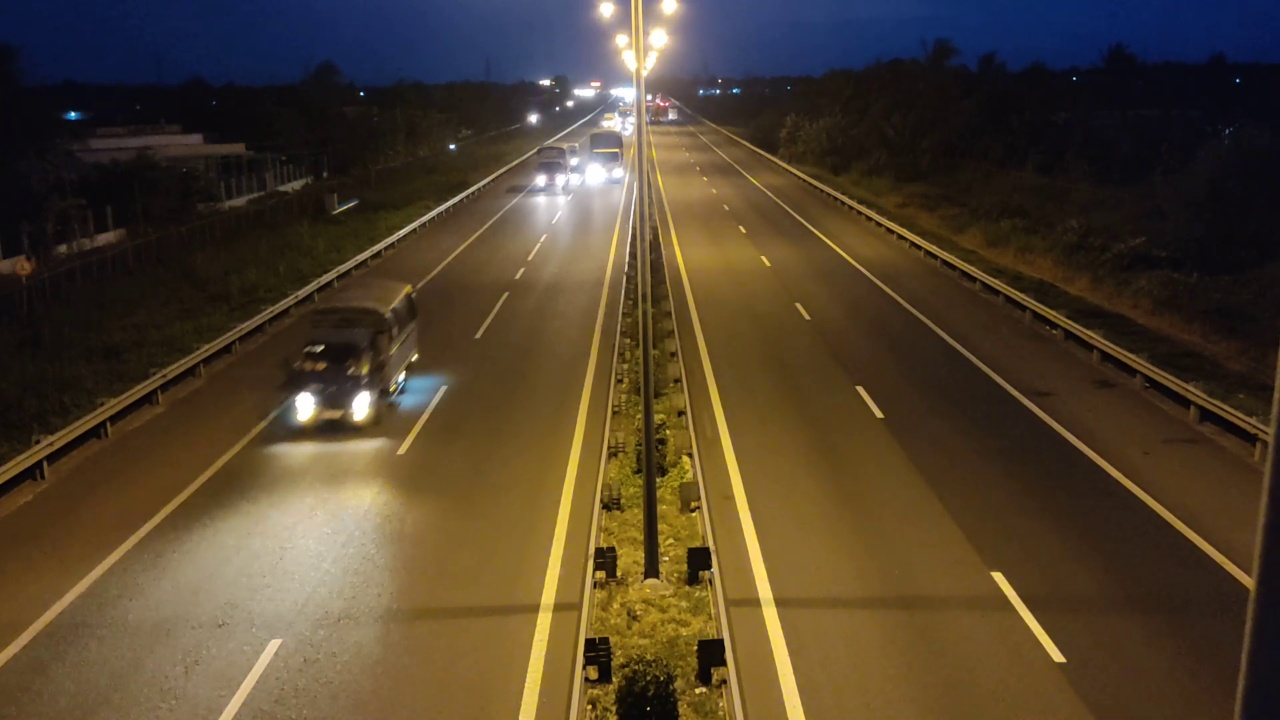truck: (284, 272, 423, 442)
